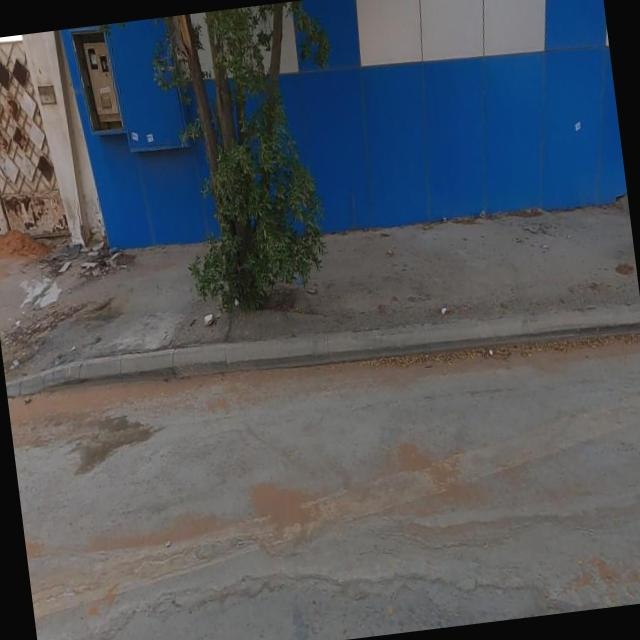debris: (70, 192, 158, 290), (179, 283, 234, 352), (416, 281, 466, 340), (366, 224, 414, 282), (476, 328, 506, 380)
